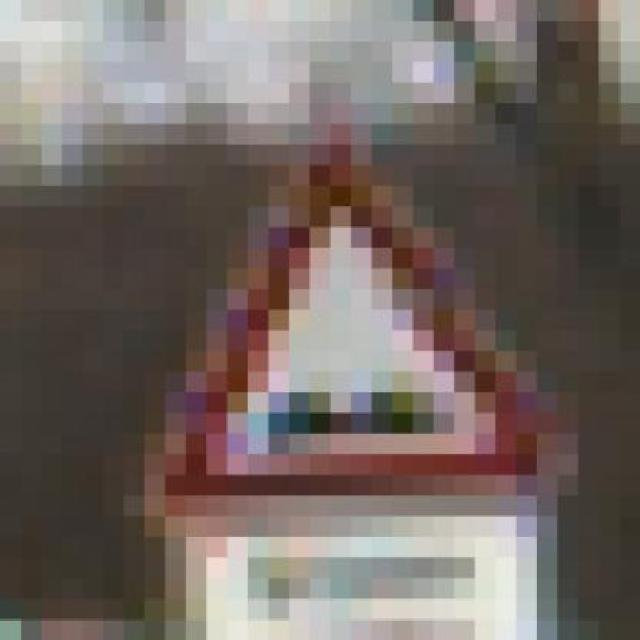Uneven Road: (123, 119, 577, 512)
